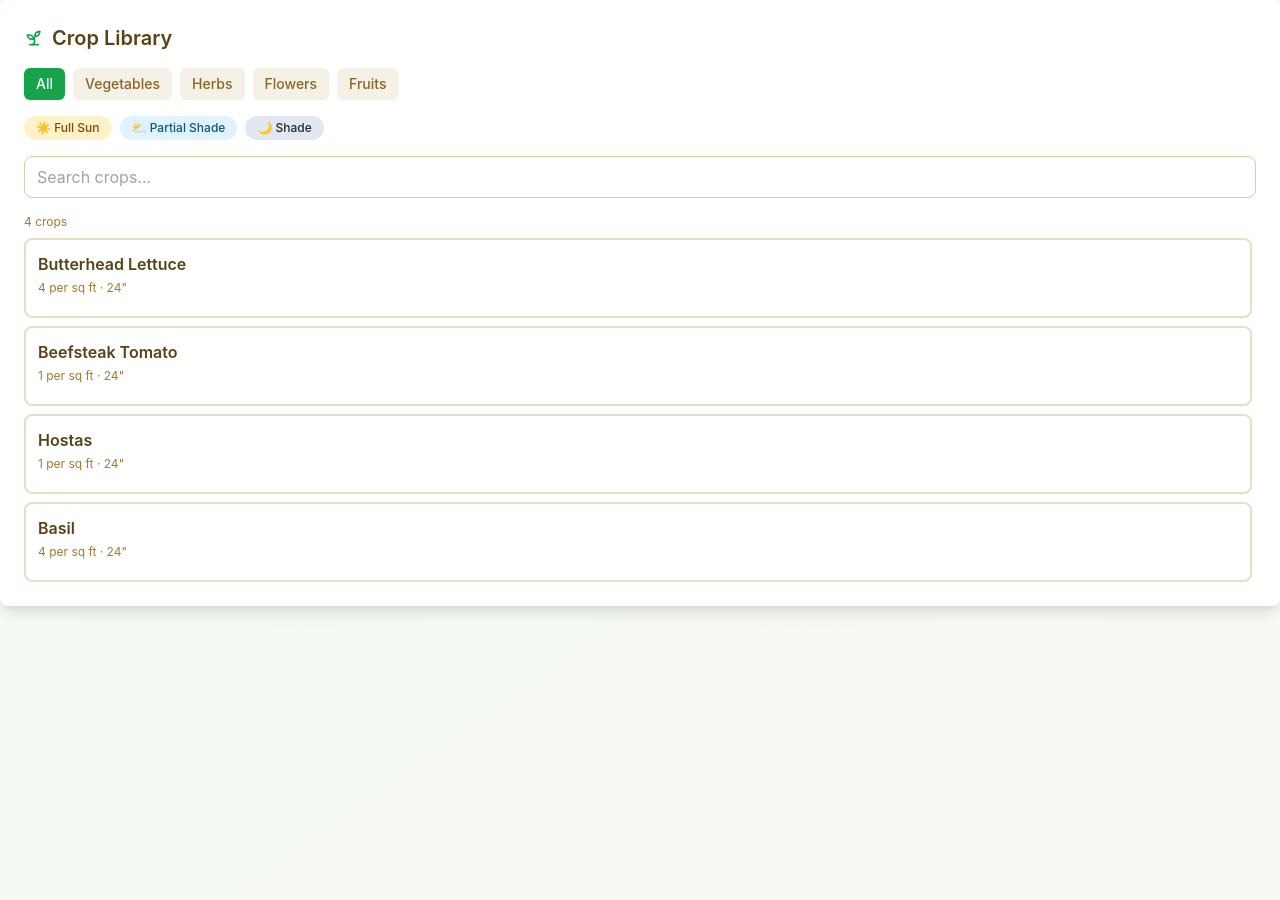
Scenario: CropLibrary › Sun Filter Pills (TODO-028) › works with category tabs (combined filters)
Note: Select Vegetables tab
Click the button "Vegetables" at (122, 84), box top-left (73, 68), bottom-right (172, 100)
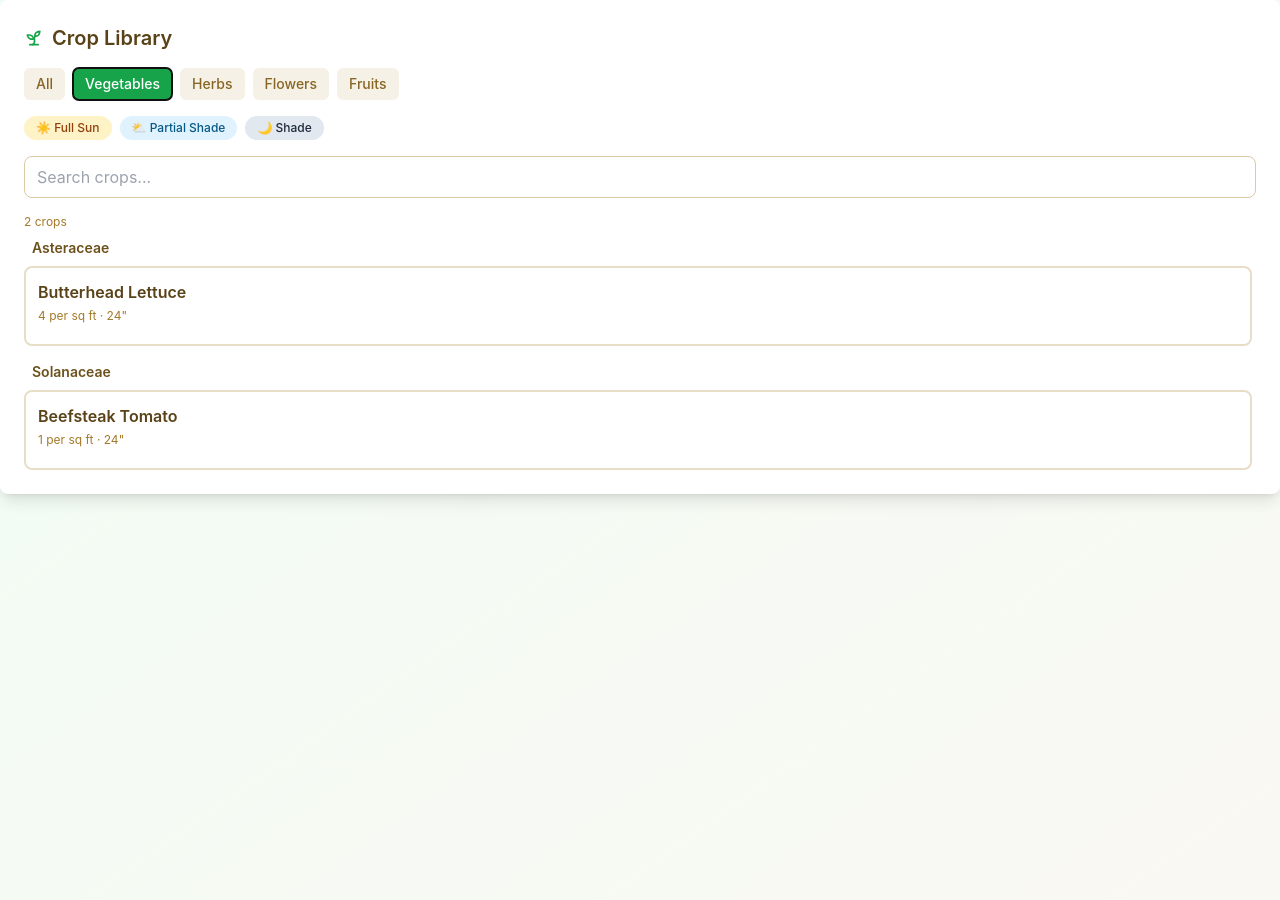
Note: Select Full Sun pill
Click the button "☀️ Full Sun" at (68, 128), box top-left (24, 116), bottom-right (112, 140)
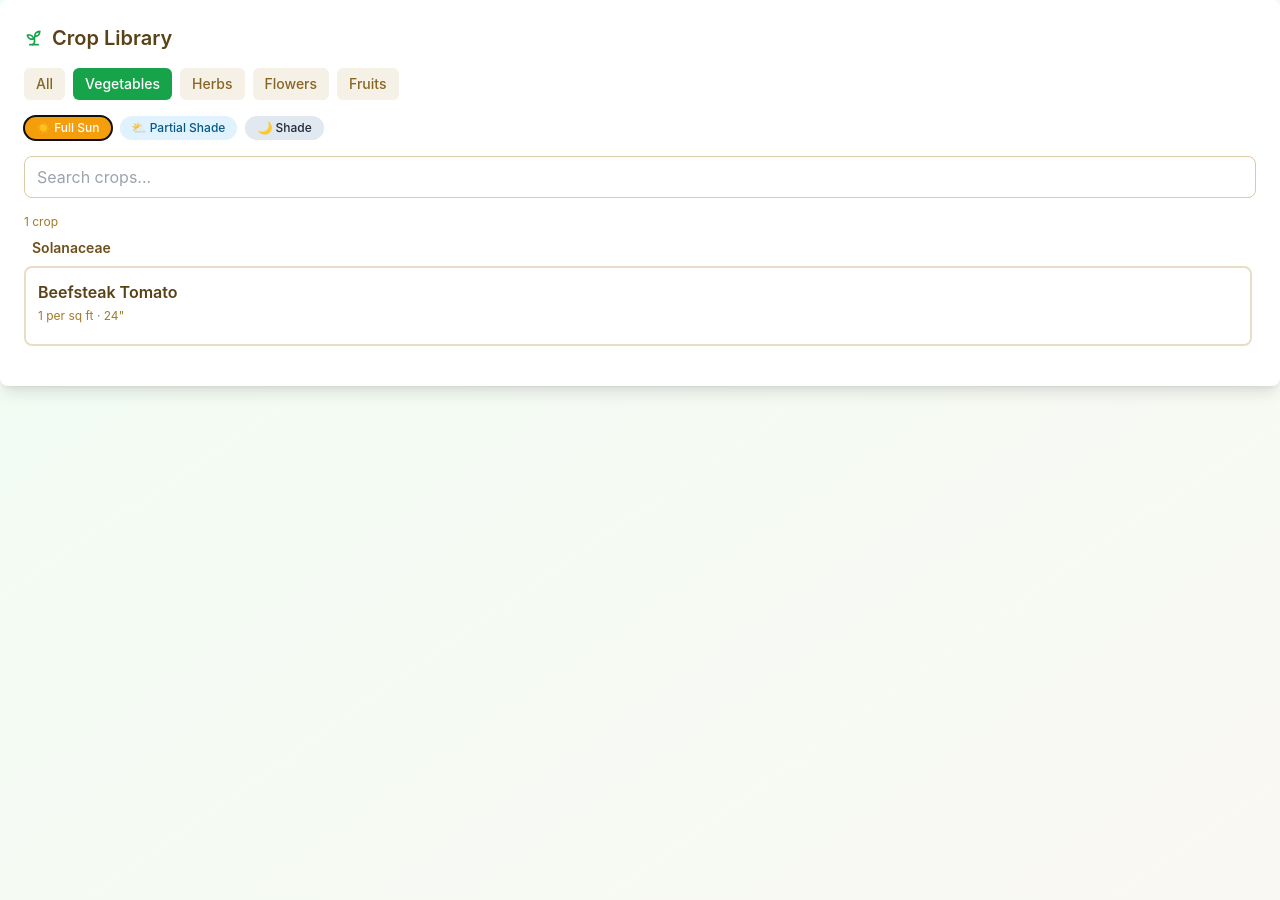
Expected: the text "Beefsteak Tomato" is shown, top-left (38, 282), bottom-right (178, 302)
Now the button "Butterhead Lettuce" is gone
